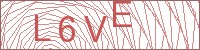6: (58, 14, 78, 43)
E: (112, 1, 133, 30)
L: (32, 12, 52, 42)
V: (82, 13, 108, 44)
